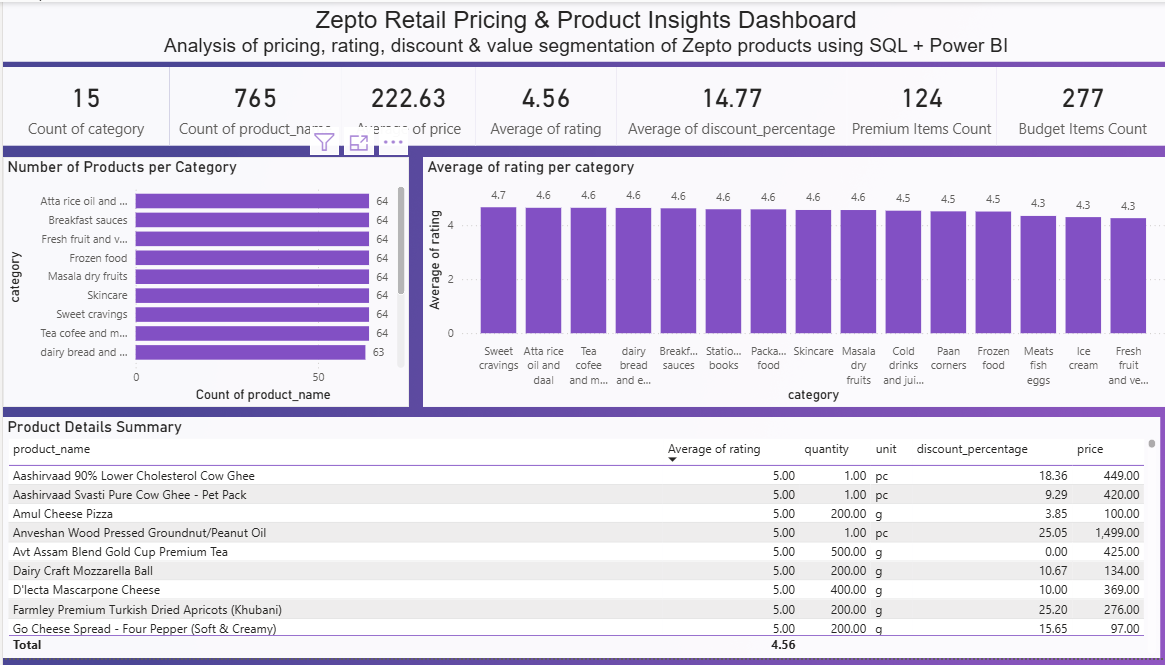

The page's visual inventory and layout, read from the dashboard file:
{"tool":"powerbi","page":{"name":"Product Overview","canvas":[1280,720],"ordinal":0},"visuals":[{"type":"card","fields":{"Values":["Count(public zepto_products.category)"]},"box":[0,71.4,182.5,86.4],"z":0},{"type":"card","fields":{"Values":["CountNonNull(public zepto_products.product_name)"]},"box":[182.5,71.4,189.4,86.4],"z":1000},{"type":"card","fields":{"Values":["Avg(public zepto_products.price)"]},"box":[371.9,71.4,146.8,86.4],"z":2000},{"type":"card","fields":{"Values":["Avg(public zepto_products.rating)"]},"box":[518.7,71.4,155.1,86.4],"z":3000},{"type":"card","fields":{"Values":["Avg(public zepto_products.discount_percentage)"]},"box":[673.8,71.4,252.5,86.4],"z":4000},{"type":"textbox","box":[0,0,1280.3,65.9],"z":5000},{"type":"card","fields":{"Values":["Query2.Premium Items Count"]},"box":[926.2,71.4,164.7,86.4],"z":6000},{"type":"card","fields":{"Values":["Query2.Budget Items Count"]},"box":[1090.9,71.4,189.4,86.4],"z":7000},{"type":"clusteredBarChart","title":"Number of Products per Category","fields":{"Category":["public zepto_products.category"],"Y":["CountNonNull(public zepto_products.product_name)"]},"box":[0,170.2,446,274.4],"z":8000},{"type":"clusteredColumnChart","title":"Average of rating per category","fields":{"Category":["public zepto_products.category"],"Y":["Avg(public zepto_products.rating)"]},"box":[461.1,170.2,819.2,274.4],"z":9000},{"type":"tableEx","title":"Product Details Summary","fields":{"Values":["public zepto_products.product_name","Avg(public zepto_products.rating)","public zepto_products.quantity","public zepto_products.unit","public zepto_products.discount_percentage","public zepto_products.price"]},"box":[0,455.6,1270.7,264.8],"z":10000}]}

Visuals, with their boxes on the page's 1280x720 design canvas (x1, y1, x2, y2). These are canvas units, not pixel positions in the 1165x665 screenshot, which may show the page scaled, cropped or inside an application window:
card - Count(public zepto_products.category): (left=0, top=71, right=182, bottom=158)
card - CountNonNull(public zepto_products.product_name): (left=182, top=71, right=372, bottom=158)
card - Avg(public zepto_products.price): (left=372, top=71, right=519, bottom=158)
card - Avg(public zepto_products.rating): (left=519, top=71, right=674, bottom=158)
card - Avg(public zepto_products.discount_percentage): (left=674, top=71, right=926, bottom=158)
textbox: (left=0, top=0, right=1280, bottom=66)
card - Query2.Premium Items Count: (left=926, top=71, right=1091, bottom=158)
card - Query2.Budget Items Count: (left=1091, top=71, right=1280, bottom=158)
"Number of Products per Category" clusteredBarChart: (left=0, top=170, right=446, bottom=445)
"Average of rating per category" clusteredColumnChart: (left=461, top=170, right=1280, bottom=445)
"Product Details Summary" tableEx: (left=0, top=456, right=1271, bottom=720)
